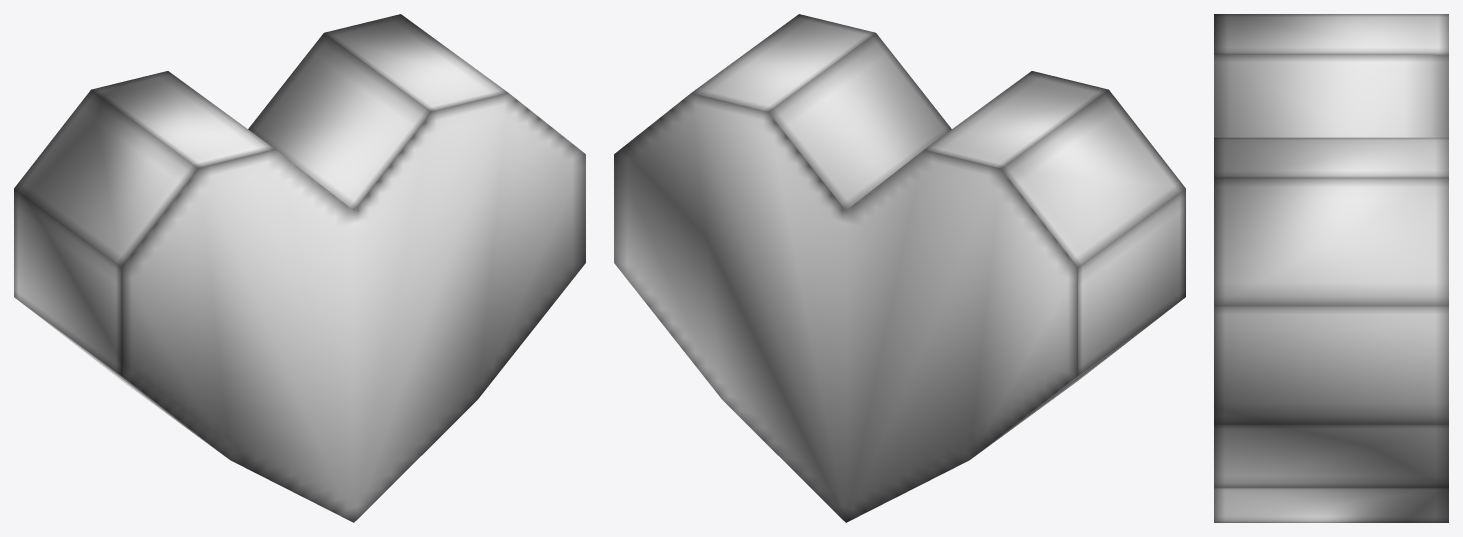
The model's file is Heart-01.fbx.
3 views of the same model, side by side, from view 1: azimuth 30°, elevation 25°; view 2: azimuth 150°, elevation 25°; view 3: azimuth 270°, elevation 25° (orthographic). The views are drawn at different scales.
Parts seen in each view (by area): view 1: Heart-01; view 2: Heart-01; view 3: Heart-01.
Part boxes in pixels (x1,y1,x2,y2): Heart-01: (14, 14, 585, 522); Heart-01: (614, 14, 1185, 522); Heart-01: (1214, 14, 1448, 522).
Bounding box in the file's own units: 0.2687 × 0.2171 × 0.1083.
